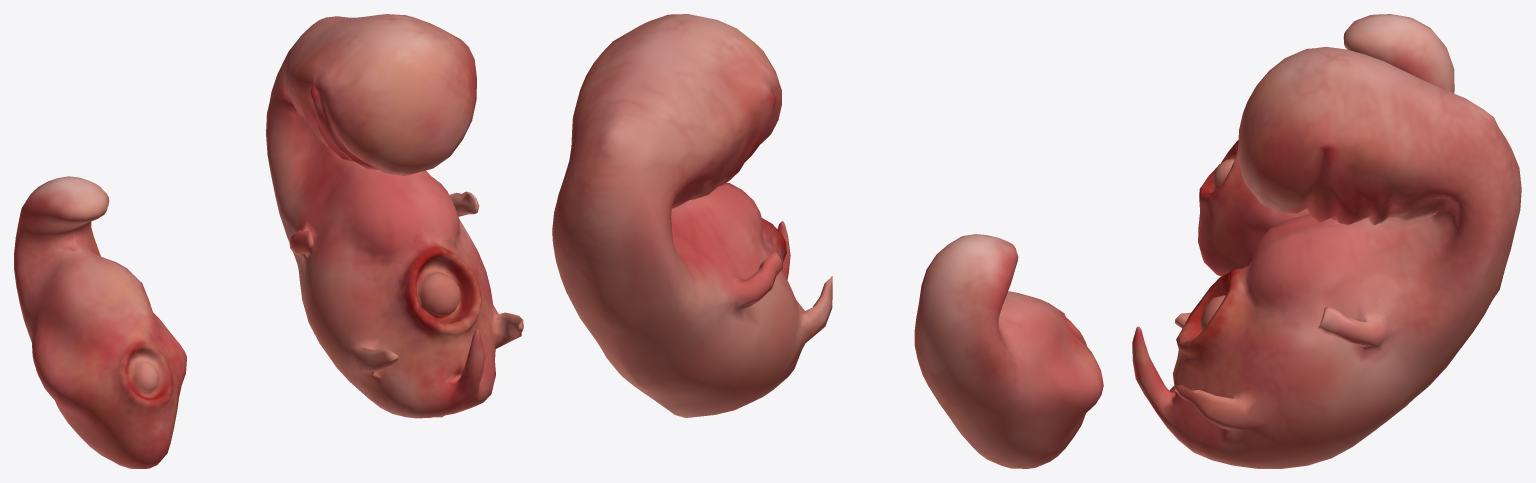
The model's file is Fetus.glb.
The picture shows the model from 3 angles, left to right: view 1: azimuth 30°, elevation 25°; view 2: azimuth 150°, elevation 25°; view 3: azimuth 270°, elevation 25°; orthographic projection. The views are drawn at different scales.
Parts seen in each view (by area): view 1: HumanEmbryo_HumanEmbryo_0; view 2: HumanEmbryo_HumanEmbryo_0; view 3: HumanEmbryo_HumanEmbryo_0.
Boxes of the visible parts, box(x1,y1,x2,y2) form: HumanEmbryo_HumanEmbryo_0: box(14, 14, 523, 468); HumanEmbryo_HumanEmbryo_0: box(552, 14, 1103, 468); HumanEmbryo_HumanEmbryo_0: box(1132, 14, 1521, 468).
Size of the model in its own units: 2.78 by 2.21 by 1.9.
1 material, 1 textured.
